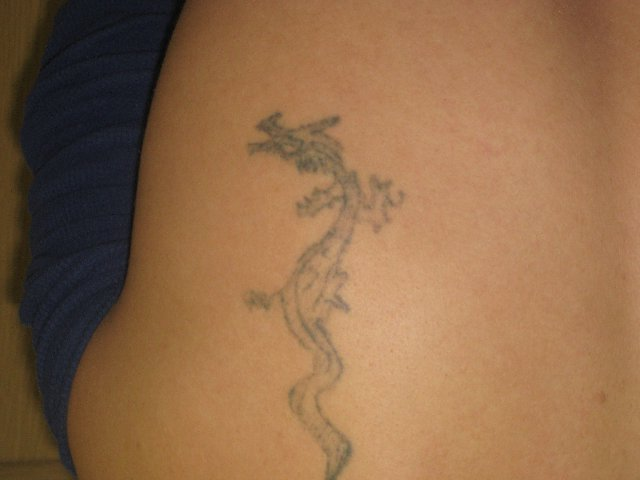tatu6_drakon: (235, 86, 412, 476)
